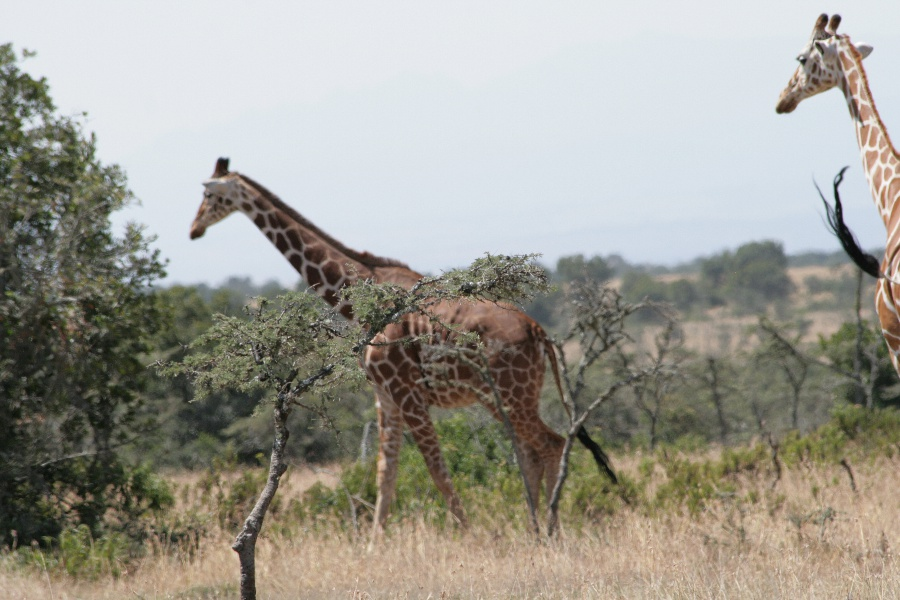giraffe: (177, 147, 577, 535), (767, 6, 898, 386)
